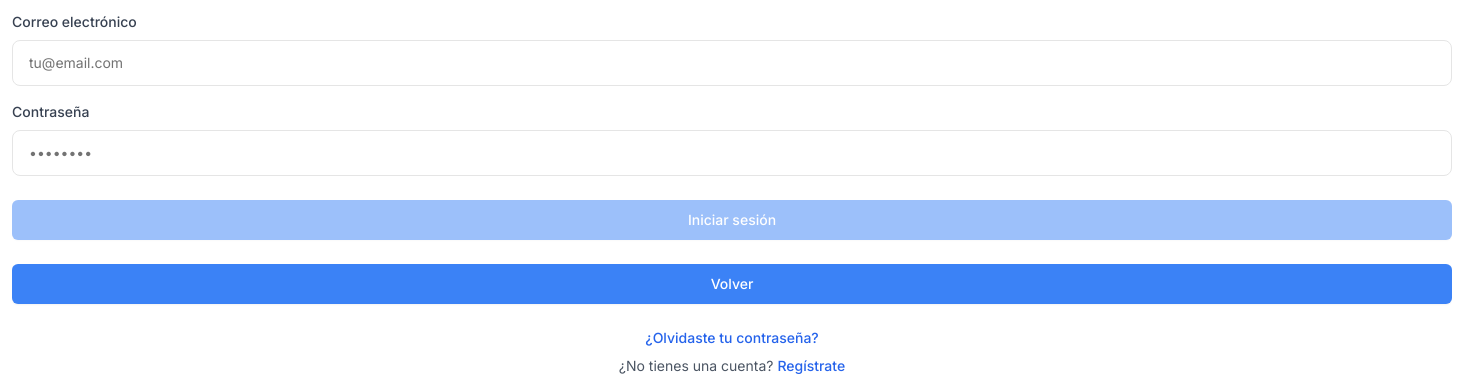
Test: LoginForm Component › Form Validation › enables submit button when both fields have values
Type "test@example.com" into the field labelled "Correo electrónico".
click(732, 63); type("test@example.com")  # box [12,40,1452,86]
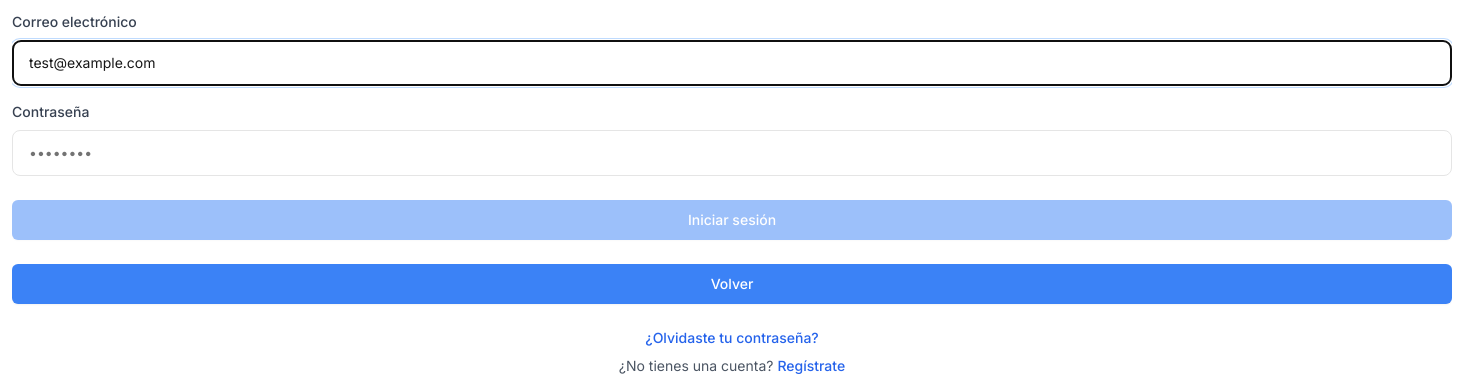
Type "password123" into the password field labelled "Contraseña".
click(732, 153); type("password123")  # box [12,130,1452,176]
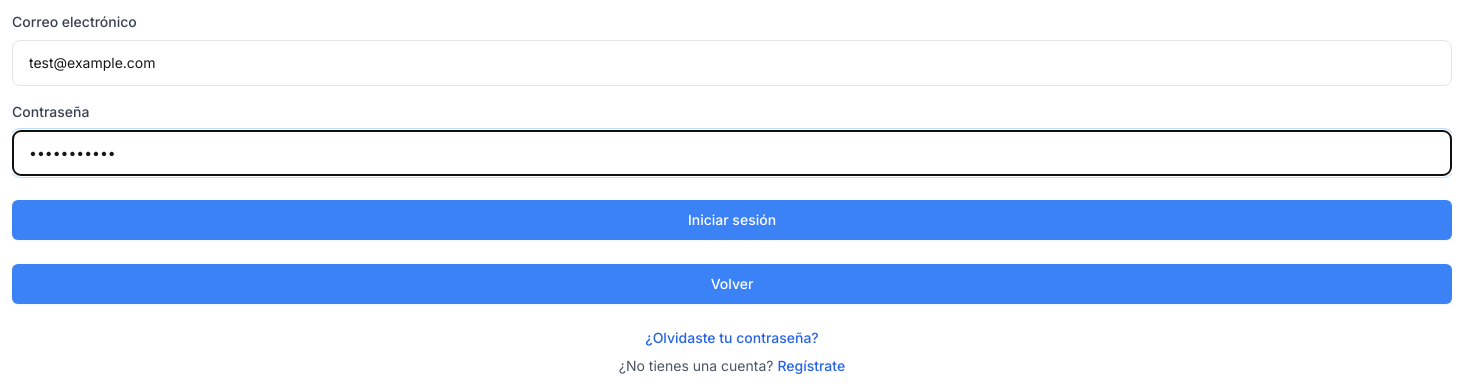
Now the button "Iniciar sesión" is enabled, box [12,200,1452,240]
